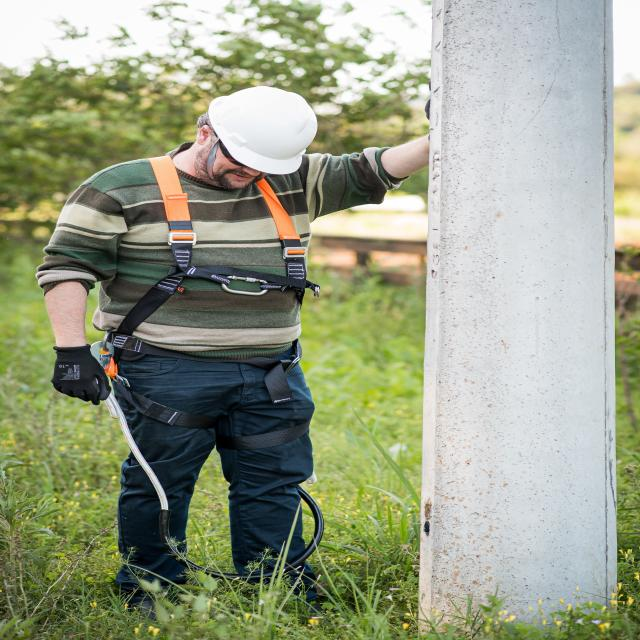capacete: (199, 83, 319, 177)
corda de vida: (90, 150, 330, 442)
luva: (41, 340, 113, 407)
